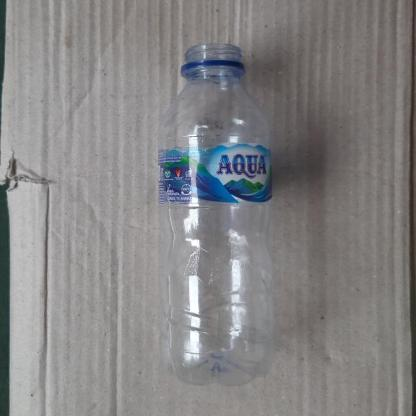Plastic Bottle: (159, 42, 271, 384)
